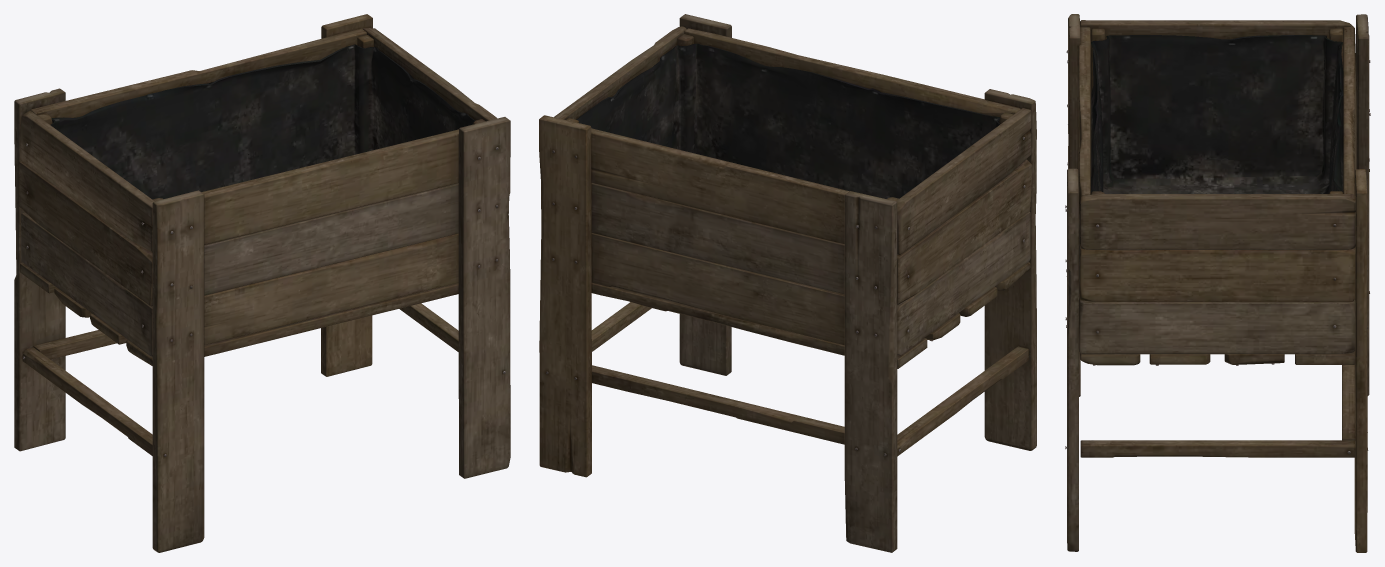
File: planter_box_03.glb
3 views of the same model, side by side, from view 1: azimuth 30°, elevation 25°; view 2: azimuth 150°, elevation 25°; view 3: azimuth 270°, elevation 25° (orthographic). The views are drawn at different scales.
Parts seen in each view (by area): view 1: planter_box_03; view 2: planter_box_03; view 3: planter_box_03.
Boxes of the visible parts, x1=… form: planter_box_03: x1=14, y1=14, x2=510, y2=552; planter_box_03: x1=539, y1=14, x2=1036, y2=552; planter_box_03: x1=1065, y1=14, x2=1370, y2=552.
Bounding box in the file's own units: 0.9143 × 0.8551 × 0.6555.
Materials: 1 (1 with a texture image).
